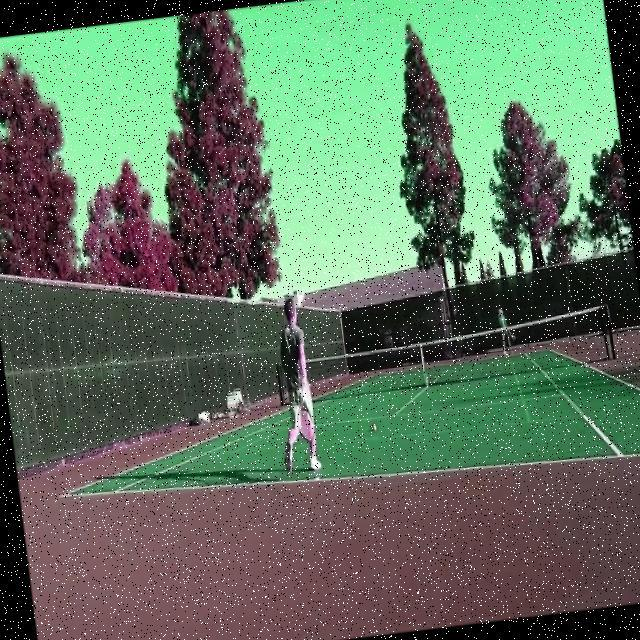court: (47, 338, 640, 527)
net: (272, 301, 620, 405)
player: (265, 297, 322, 472)
